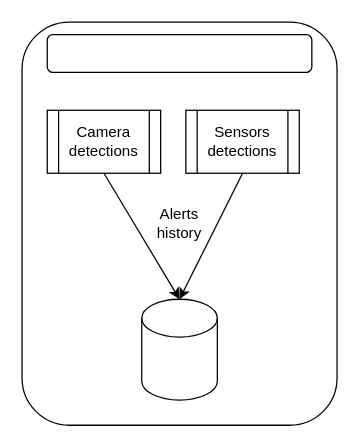
The diagram is 359 pixels wide and 447 high, and some of its shapes have lost their labels. Here are the shapes that lost their labels. From the top down, the box of each, then its label:
(46, 33, 312, 72): Alert Notifictions
(140, 298, 217, 400): Sqlite
